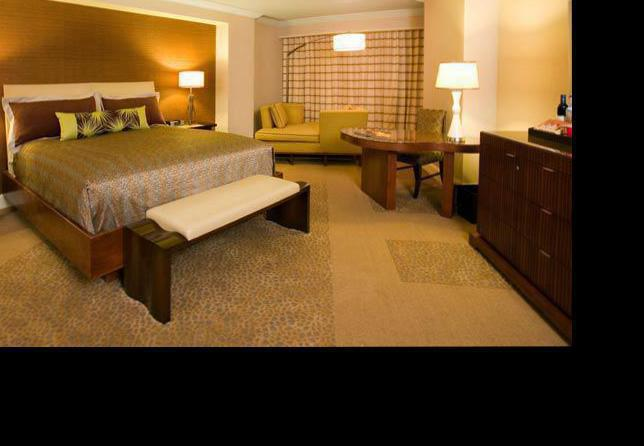Armario: (478, 129, 570, 334)
